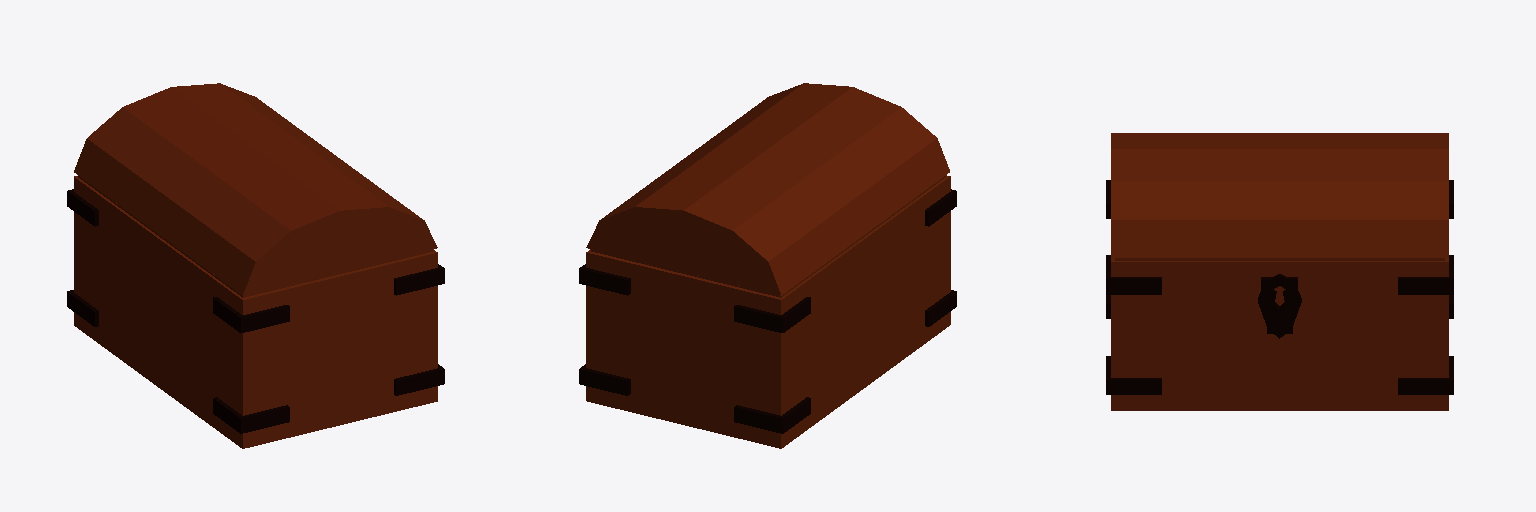
File: Tresure_A.obj
3 views of the same model, side by side, from view 1: azimuth 30°, elevation 25°; view 2: azimuth 150°, elevation 25°; view 3: azimuth 270°, elevation 25° (orthographic).
Visible parts, largest first — view 1: Tresure_A; view 2: Tresure_A; view 3: Tresure_A.
Boxes of the visible parts, box(x1,y1,x2,y2) form: Tresure_A: box(67, 83, 444, 448); Tresure_A: box(579, 83, 956, 448); Tresure_A: box(1106, 133, 1453, 410).
Size of the model in its own units: 3.3 by 3.31 by 4.87.